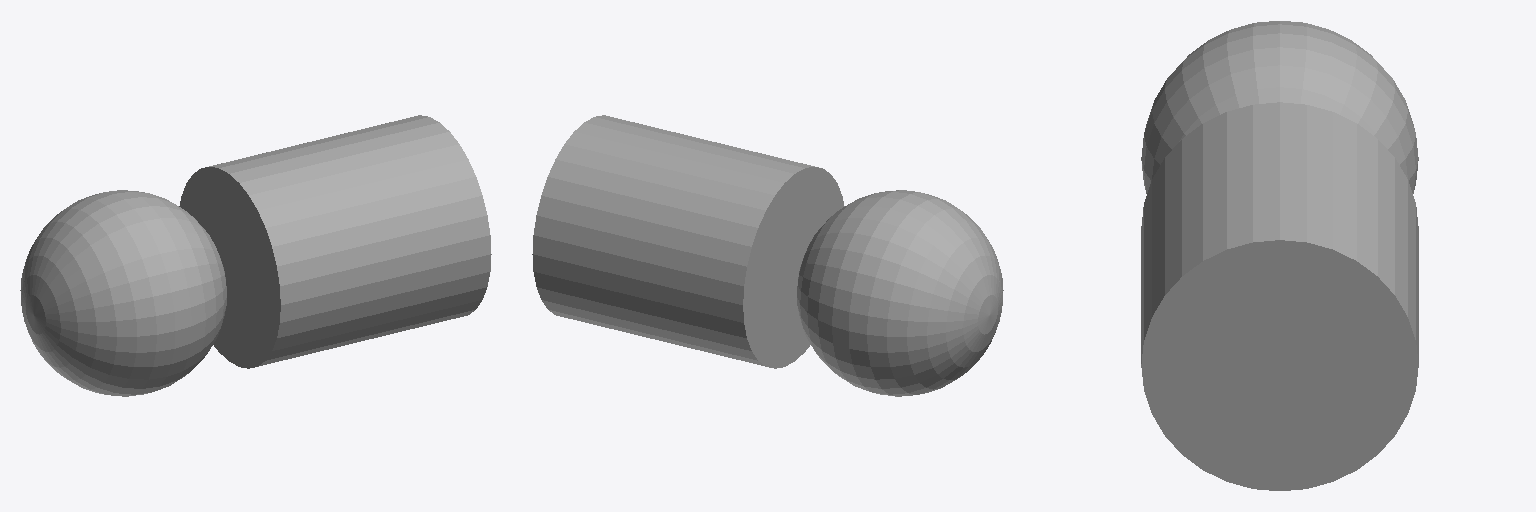
robot.urdf — panda:
<?xml version='1.0' encoding='utf-8'?>
<robot name="panda">

    <link name="link0">
      <inertial>
        <origin xyz="0 0 0.05" rpy="0 0 0" />
        <mass value="4" />
        <inertia ixx="0.4" iyy="0.4" izz="0.4" ixy="0" ixz="0" iyz="0" />
      </inertial>
      <visual>
        <geometry>
          <mesh filename="../../../../examples/models/panda/meshes/visual/link0.obj"/>
        </geometry>
      </visual>
<!--       <collision>
        <geometry>
          <mesh filename="../../../../examples/models/panda/meshes/collision/link0.obj"/>
        </geometry>
      </collision> -->
    </link>
    <link name="link1">
      <inertial>
        <origin xyz="0 0 -0.07" rpy="0 -0 0" />
        <mass value="3" />
        <inertia ixx="0.3" iyy="0.3" izz="0.3" ixy="0" ixz="0" iyz="0" />
      </inertial>
      <visual>
        <geometry>
          <mesh filename="../../../../examples/models/panda/meshes/visual/link1.obj"/>
        </geometry>
      </visual>
      <!-- <collision>
        <geometry>
          <mesh filename="../../../../examples/models/panda/meshes/collision/link1.obj"/>
        </geometry>
      </collision> -->
    </link>
    <link name="link2">
      <inertial>
        <origin xyz="0 -0.1 0" rpy="0 -0 0" />
        <mass value="3" />
        <inertia ixx="0.3" iyy="0.3" izz="0.3" ixy="0" ixz="0" iyz="0" />
      </inertial>
      <visual>
        <geometry>
          <mesh filename="../../../../examples/models/panda/meshes/visual/link2.obj"/>
        </geometry>
      </visual>
      <!-- <collision>
        <geometry>
          <mesh filename="../../../../examples/models/panda/meshes/collision/link2.obj"/>
        </geometry>
      </collision> -->
    </link>
    <link name="link3">
      <inertial>
        <origin xyz="0.04 0 -0.05" rpy="0 -0 0" />
        <mass value="2" />
        <inertia ixx="0.2" iyy="0.2" izz="0.2" ixy="0" ixz="0" iyz="0" />
      </inertial>
      <visual>
        <geometry>
          <mesh filename="../../../../examples/models/panda/meshes/visual/link3.obj"/>
        </geometry>
      </visual>
      <!-- <collision>
        <geometry>
          <mesh filename="../../../../examples/models/panda/meshes/collision/link3.obj"/>
        </geometry>
      </collision> -->
    </link>
    <link name="link4">
      <inertial>
        <origin xyz="-0.04 0.05 0" rpy="0 -0 0" />
        <mass value="2" />
        <inertia ixx="0.2" iyy="0.2" izz="0.2" ixy="0" ixz="0" iyz="0" />
      </inertial>
      <visual>
        <geometry>
          <mesh filename="../../../../examples/models/panda/meshes/visual/link4.obj"/>
        </geometry>
      </visual>
<!--       <collision>
        <geometry>
          <mesh filename="../../../../examples/models/panda/meshes/collision/link4.obj"/>
        </geometry>
      </collision> -->
    </link>
    <link name="link5">
      <inertial>
        <origin xyz="0 0 -0.15" rpy="0 -0 0" />
        <mass value="2" />
        <inertia ixx="0.2" iyy="0.2" izz="0.2" ixy="0" ixz="0" iyz="0" />
      </inertial>
      <visual>
        <geometry>
          <mesh filename="../../../../examples/models/panda/meshes/visual/link5.obj"/>
        </geometry>
      </visual>
<!--       <collision>
        <geometry>
          <mesh filename="../../../../examples/models/panda/meshes/collision/link5.obj"/>
        </geometry>
      </collision> -->
    </link>
    <link name="link6">
      <inertial>
        <origin xyz="0.06 0 0" rpy="0 -0 0" />
        <mass value="1.5" />
        <inertia ixx="0.1" iyy="0.1" izz="0.1" ixy="0" ixz="0" iyz="0" />
      </inertial>
      <visual>
        <geometry>
          <mesh filename="../../../../examples/models/panda/meshes/visual/link6.obj"/>
        </geometry>
      </visual>
      <!-- <collision>
        <geometry>
          <mesh filename="../../../../examples/models/panda/meshes/collision/link6.obj"/>
        </geometry>
      </collision> -->
    </link>
    <link name="link7">
      <inertial>
        <origin xyz="0 0 0.17" rpy="0 -0 0" />
        <mass value="1.8" />
        <inertia ixx="0.09" iyy="0.05" izz="0.07" ixy="0" ixz="0" iyz="0" />
      </inertial>
      <visual>
        <geometry>
          <mesh filename="../../../../examples/models/panda/meshes/visual/link7.obj"/>
        </geometry>
      </visual>
      <visual>
        <origin xyz="0 0 0.1" rpy="0 0 0" />
        <geometry>
          <!-- <sphere radius="0.04" /> -->
          <!-- <box size="0.04 0.04 0.04"/> -->
          <cylinder length="0.047" radius="0.02"/>
        </geometry>
      </visual>
      <visual>
        <origin xyz="0 0 0.147" rpy="0 0 0" />
        <geometry>
          <sphere radius="0.02" />
        </geometry>
      </visual>
      <collision>
        <origin xyz="0 0 0.147" rpy="0 0 0" />
        <geometry>
          <sphere radius="0.02" />
        </geometry>
      </collision>
<!--       <collision>
        <origin xyz="0 0 0.1" rpy="0 0 0" />
        <geometry>
          <cylinder length="0.04" radius="0.02"/>
        </geometry>
      </collision> -->
    </link>
    <joint name="joint1" type="revolute">
      <safety_controller k_position="100.0" k_velocity="40.0" soft_lower_limit="-2.8973" soft_upper_limit="2.8973"/>
      <origin rpy="0 0 0" xyz="0 0 0.333"/>
      <parent link="link0"/>
      <child link="link1"/>
      <axis xyz="0 0 1"/>
      <limit effort="87" lower="-2.8973" upper="2.8973" velocity="2.1750"/>
    </joint>
    <joint name="joint2" type="revolute">
      <safety_controller k_position="100.0" k_velocity="40.0" soft_lower_limit="-1.7628" soft_upper_limit="1.7628"/>
      <origin rpy="-1.57079632679 0 0" xyz="0 0 0"/>
      <parent link="link1"/>
      <child link="link2"/>
      <axis xyz="0 0 1"/>
      <calibration falling="-45.0" />
      <limit effort="87" lower="-1.7628" upper="1.7628" velocity="2.1750"/>
    </joint>
    <joint name="joint3" type="revolute">
      <safety_controller k_position="100.0" k_velocity="40.0" soft_lower_limit="-2.8973" soft_upper_limit="2.8973"/>
      <origin rpy="1.57079632679 0 0" xyz="0 -0.316 0"/>
      <parent link="link2"/>
      <child link="link3"/>
      <axis xyz="0 0 1"/>
      <limit effort="87" lower="-2.8973" upper="2.8973" velocity="2.1750"/>
    </joint>
    <joint name="joint4" type="revolute">
      <safety_controller k_position="100.0" k_velocity="40.0" soft_lower_limit="-3.0718" soft_upper_limit="-0.0698"/>
      <origin rpy="1.57079632679 0 0" xyz="0.0825 0 0"/>
      <parent link="link3"/>
      <child link="link4"/>
      <axis xyz="0 0 1"/>
      <calibration falling="-125.0" />
      <limit effort="87" lower="-3.0718" upper="-0.0698" velocity="2.1750"/>
    </joint>
    <joint name="joint5" type="revolute">
      <safety_controller k_position="100.0" k_velocity="40.0" soft_lower_limit="-2.8973" soft_upper_limit="2.8973"/>
      <origin rpy="-1.57079632679 0 0" xyz="-0.0825 0.384 0"/>
      <parent link="link4"/>
      <child link="link5"/>
      <axis xyz="0 0 1"/>
      <limit effort="12" lower="-2.8973" upper="2.8973" velocity="2.6100"/>
    </joint>
    <joint name="joint6" type="revolute">
      <safety_controller k_position="100.0" k_velocity="40.0" soft_lower_limit="-0.0175" soft_upper_limit="3.7525"/>
      <origin rpy="1.57079632679 0 0" xyz="0 0 0"/>
      <parent link="link5"/>
      <child link="link6"/>
      <axis xyz="0 0 1"/>
      <calibration falling="80.0" />
      <limit effort="12" lower="-0.0175" upper="3.7525" velocity="2.6100"/>
    </joint>
    <joint name="joint7" type="revolute">
      <safety_controller k_position="100.0" k_velocity="40.0" soft_lower_limit="-2.8973" soft_upper_limit="2.8973"/>
      <origin rpy="1.57079632679 0 0" xyz="0.088 0 0"/>
      <parent link="link6"/>
      <child link="link7"/>
      <axis xyz="0 0 1"/>
      <limit effort="12" lower="-2.8973" upper="2.8973" velocity="2.6100"/>
    </joint>
</robot>

--- Facts derived from the render (not from the file) ---
Views: 3 orthographic renders of the robot side by side, from view 1: azimuth 30°, elevation 25°; view 2: azimuth 150°, elevation 25°; view 3: azimuth 270°, elevation 25°.
Model panda with 8 links and 7 joints (7 revolute), rooted at link0, posed all joints at 0 but 1 set to mid-range because 0 is outside their limits (joint4 = -1.57).
Visible links, largest first — view 1: link7; view 2: link7; view 3: link7.
Boxes of the visible links, x1=… form: link7: x1=20, y1=115, x2=491, y2=396; link7: x1=532, y1=115, x2=1003, y2=396; link7: x1=1141, y1=21, x2=1418, y2=490.
Size in the robot's own frame: 0.0905 by 0.04 by 0.04 metres.
Geometry: only primitive shapes (box / cylinder / sphere) drawn; not drawn: 8 mesh visuals (reference in a form the renderer does not follow).